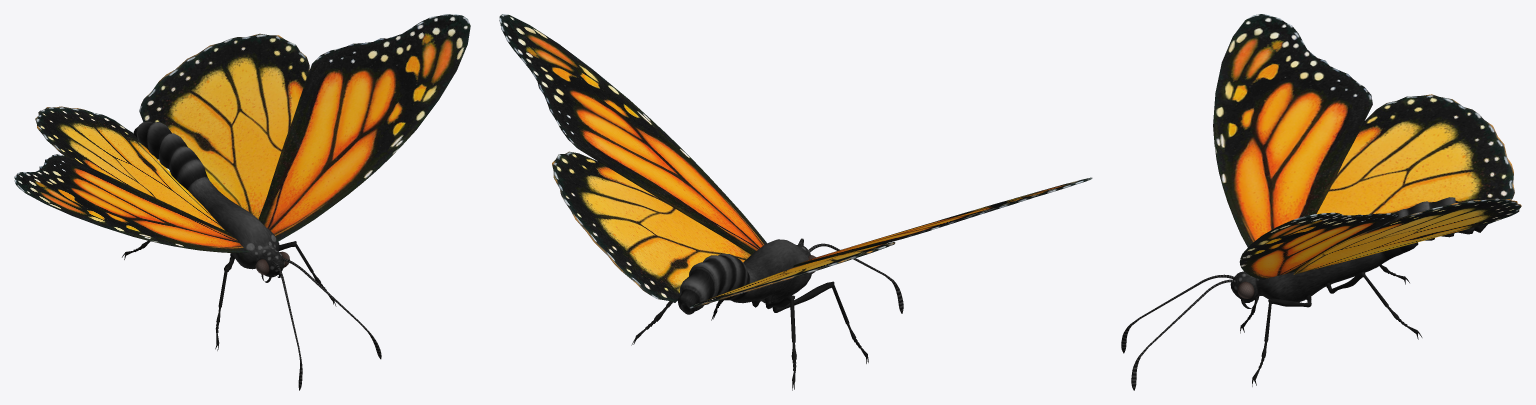
Rendered from butterfly.glb.
The picture shows the model from 3 angles, left to right: view 1: azimuth 30°, elevation 25°; view 2: azimuth 150°, elevation 25°; view 3: azimuth 270°, elevation 25°; orthographic projection. The views are drawn at different scales.
Visible parts, largest first — view 1: wingR, wingL, body; view 2: wingR, wingL, body; view 3: wingL, wingR.
Boxes of the visible parts, x1=… form: wingR: x1=139, y1=14, x2=470, y2=359; wingL: x1=14, y1=106, x2=302, y2=390; body: x1=136, y1=121, x2=282, y2=276; wingR: x1=499, y1=14, x2=803, y2=345; wingL: x1=684, y1=177, x2=1092, y2=390; body: x1=681, y1=240, x2=804, y2=314; wingL: x1=1121, y1=14, x2=1514, y2=353; wingR: x1=1131, y1=198, x2=1521, y2=390.
Size of the model in its own units: 0.8756 by 0.4471 by 0.6075.
1 material, 1 textured.
